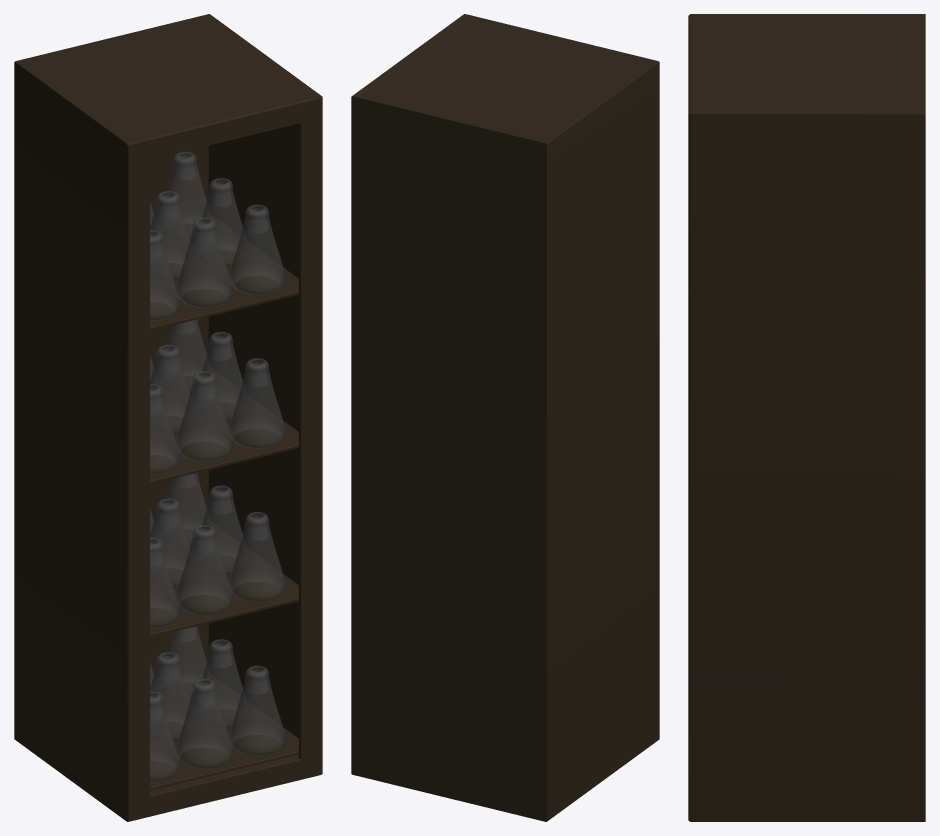
File: potion2_shelf.fbx
The picture shows the model from 3 angles, left to right: view 1: azimuth 30°, elevation 25°; view 2: azimuth 150°, elevation 25°; view 3: azimuth 270°, elevation 25°; orthographic projection. The views are drawn at different scales.
Parts seen in each view (by area): view 1: shelf_potion2; view 2: shelf_potion2; view 3: shelf_potion2.
Boxes of the visible parts, bbox=[...] form: shelf_potion2: bbox=[14, 14, 322, 821]; shelf_potion2: bbox=[351, 14, 659, 821]; shelf_potion2: bbox=[688, 14, 925, 821].
Size of the model in its own units: 99.62 by 330 by 99.95.
